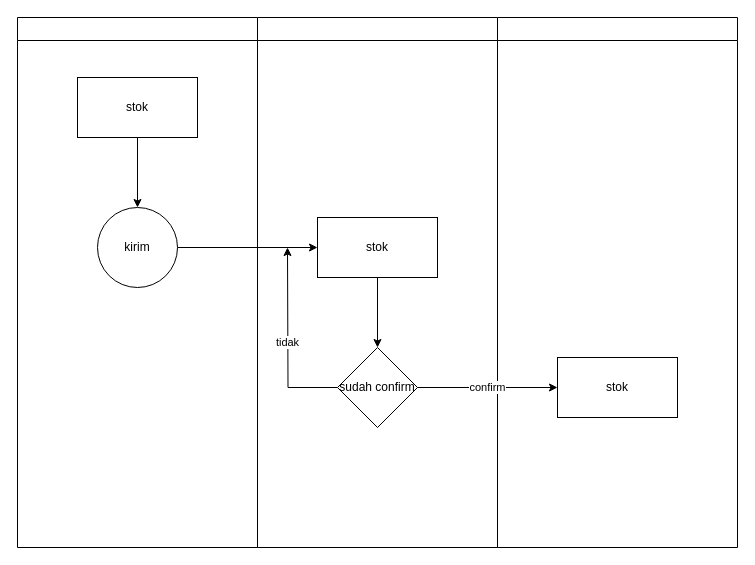
The diagram is 755 pixels wide and 565 high, and some of its shapes have lost their labels. The shapes that lost their labels are listed below. From the top down, each one's box as (x1, y1, x2, y2) in pixels, then its label:
(16, 16, 258, 548): Gudang Inventory
(256, 16, 498, 548): Gudang temp
(496, 16, 738, 548): Gudang peminta
